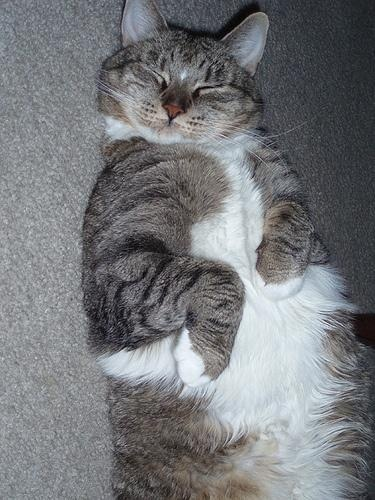cat: (67, 2, 375, 500)
